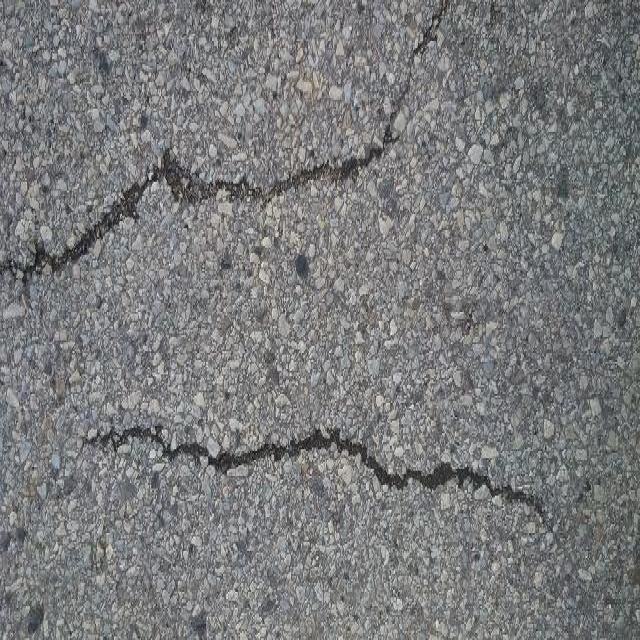GRIETA: (0, 111, 398, 278), (85, 427, 545, 523), (395, 0, 448, 111)
